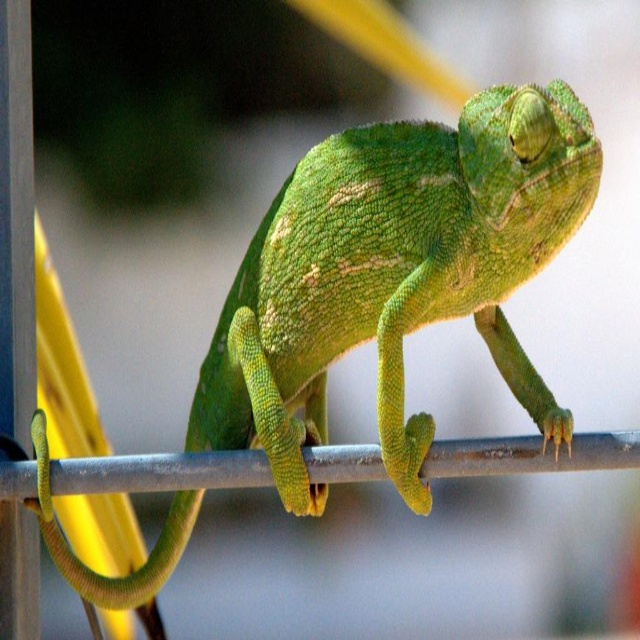Lizard: (23, 78, 603, 612)
